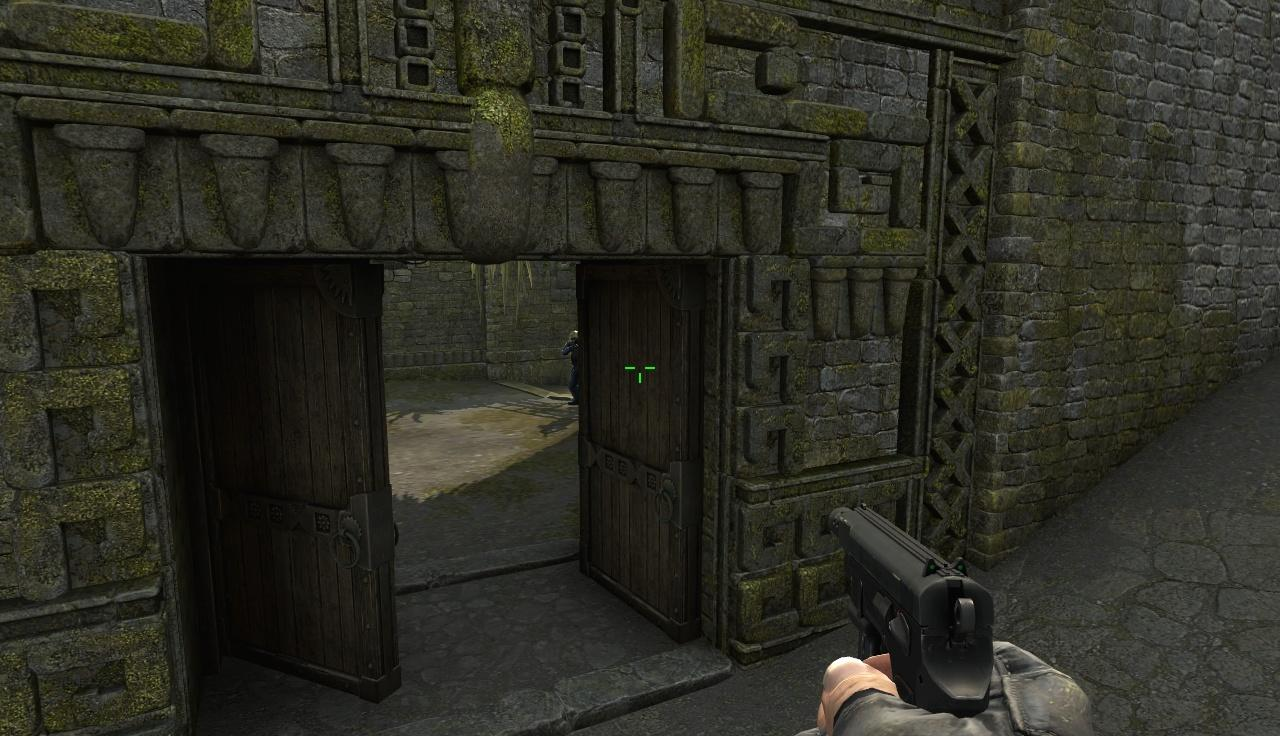ct: (568, 330, 578, 404)
cthead: (570, 330, 578, 342)
pistol: (814, 509, 1041, 736)
